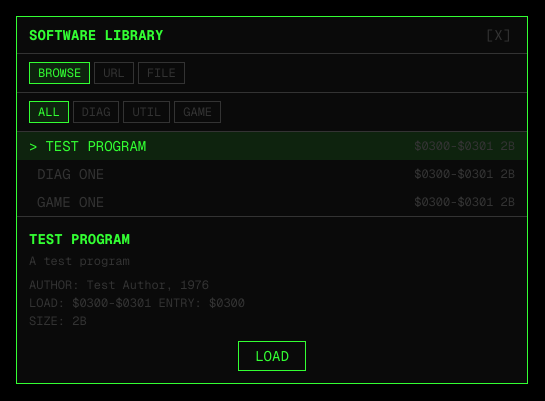
Test: SoftwareLibraryModal › top-level tabs › switches to URL tab
This screenshot has width=545, height=401.
Click the button "URL": [114, 73] box [94,62,134,84]
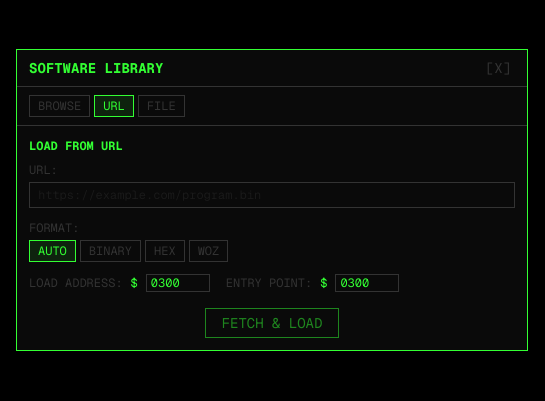
Expected: the text "LOAD FROM URL" is shown, [29,138,123,154]
